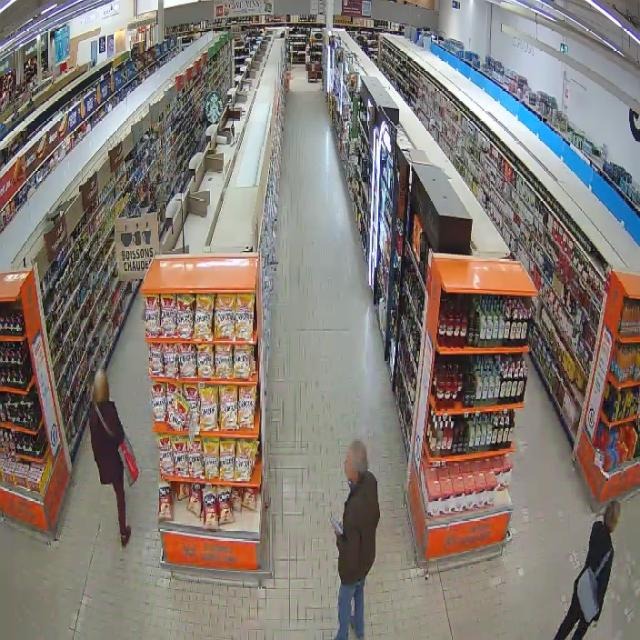bags: (576, 550, 612, 623)
hands: (334, 528, 340, 537), (594, 620, 597, 627)
person: (555, 501, 619, 639), (336, 441, 379, 639), (90, 369, 130, 547)
